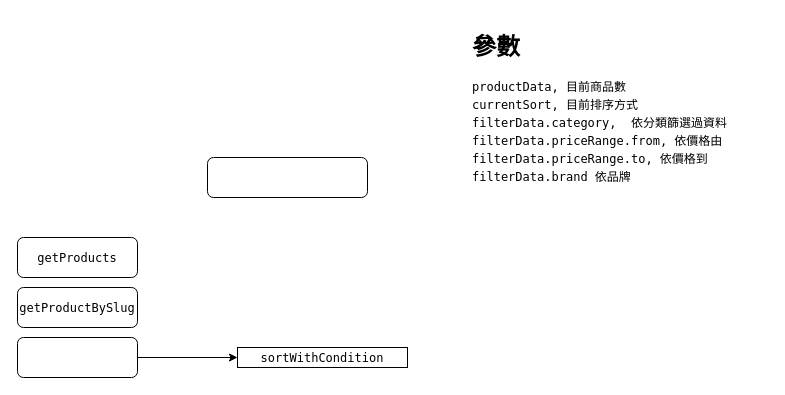
Image size: 785x395. Some labels were removed from this diagram. The shapes that lost their labels are listed below. From the top down, each one's centre as x and y in pixels, then its label:
At (287,177): "getProductbyFilter".
At (77,357): "getProductBySort".
